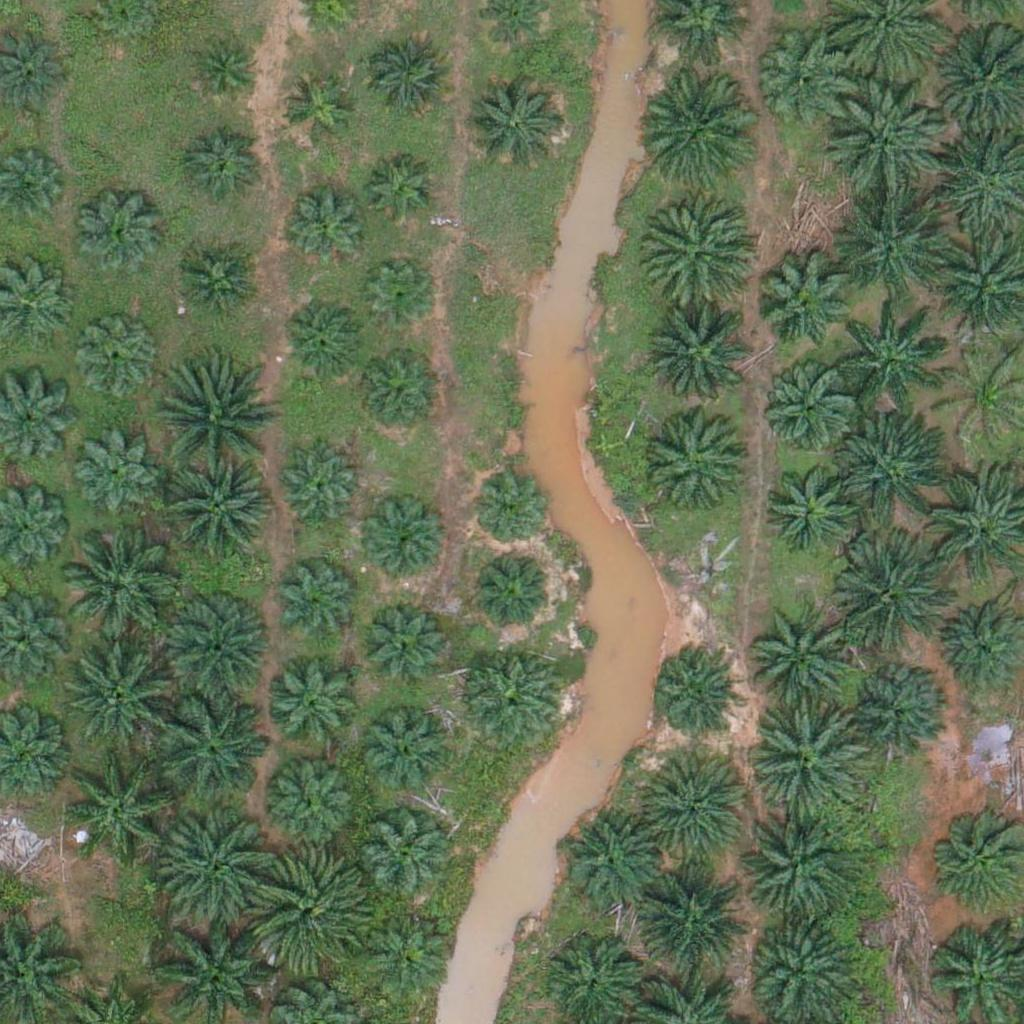Kelapa_Sawit: (836, 538, 949, 652), (739, 815, 852, 929), (637, 751, 750, 865), (643, 69, 756, 183), (154, 588, 267, 702), (837, 412, 950, 525), (827, 86, 940, 199), (639, 193, 752, 306), (253, 852, 366, 965), (161, 365, 274, 478), (158, 686, 271, 799), (636, 859, 748, 973), (646, 302, 758, 416), (165, 813, 277, 927), (834, 299, 946, 412), (838, 184, 950, 297), (750, 592, 862, 705), (754, 706, 866, 819), (159, 458, 271, 571), (66, 752, 178, 865), (66, 643, 178, 756), (62, 531, 174, 644), (846, 659, 946, 760), (756, 359, 856, 460), (760, 455, 860, 556), (649, 411, 749, 512), (464, 75, 564, 176), (462, 644, 562, 745), (354, 705, 454, 806), (562, 812, 662, 913), (753, 252, 853, 352), (264, 751, 364, 851), (268, 655, 368, 755), (756, 29, 856, 129), (281, 181, 369, 270), (179, 125, 267, 213), (167, 241, 255, 329), (351, 348, 439, 436), (365, 909, 453, 997), (274, 558, 362, 646), (73, 317, 161, 405), (367, 34, 455, 122), (650, 645, 737, 733), (280, 296, 367, 384), (273, 444, 360, 532), (362, 501, 449, 589), (469, 547, 556, 635), (363, 817, 450, 905), (358, 596, 445, 684), (75, 188, 162, 276), (72, 430, 159, 518), (363, 261, 438, 337), (472, 474, 547, 550), (186, 34, 261, 110), (278, 72, 353, 147), (366, 156, 441, 231)
